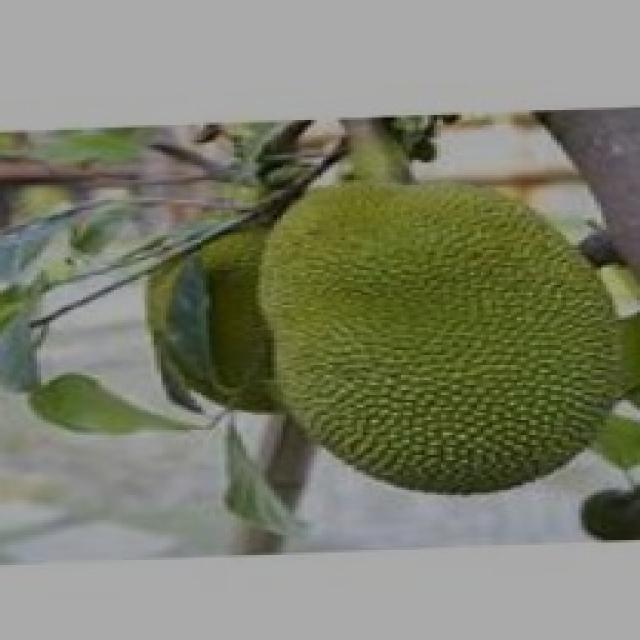Fruit: (240, 160, 637, 510)
